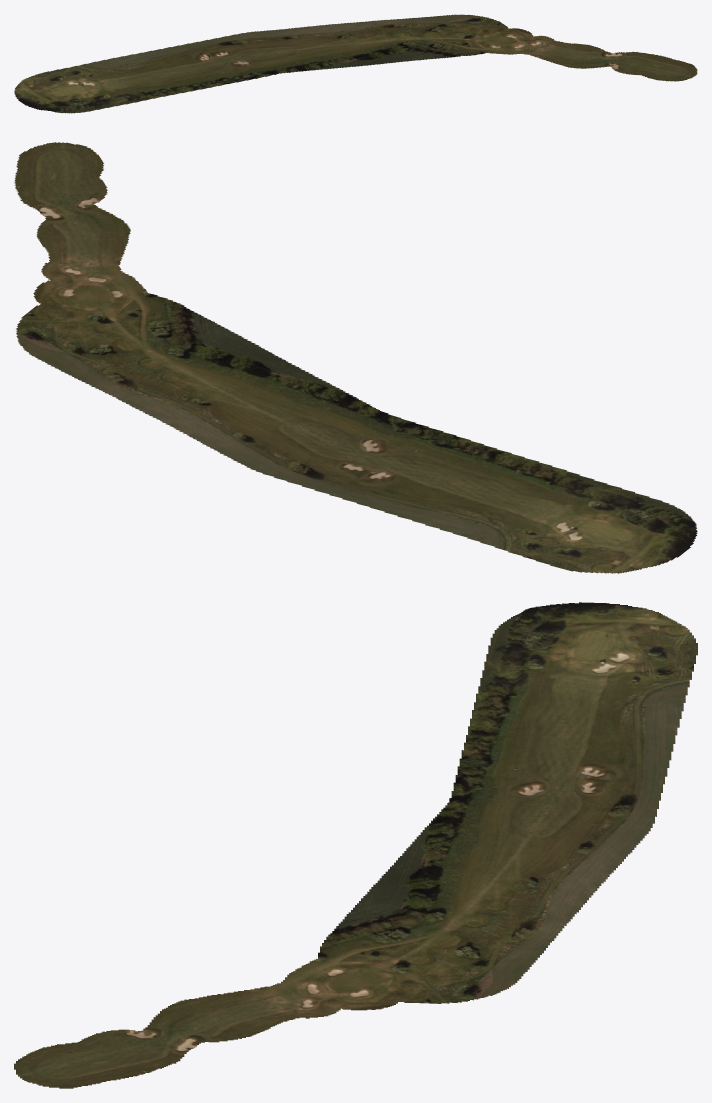
File: elisefarm_16.glb
The picture shows the model from 3 angles, top to bottom: view 1: azimuth 30°, elevation 25°; view 2: azimuth 150°, elevation 25°; view 3: azimuth 270°, elevation 25°; orthographic projection. The views are drawn at different scales.
Visible parts, largest first — view 1: ground; view 2: ground; view 3: ground.
Part boxes in pixels (box(x1,y1,x2,y2)): ground: box(14, 14, 697, 113); ground: box(14, 142, 697, 573); ground: box(14, 602, 697, 1088).
Size of the model in its own units: 577 by 10.05 by 333.
Materials: 1 (1 with a texture image).
